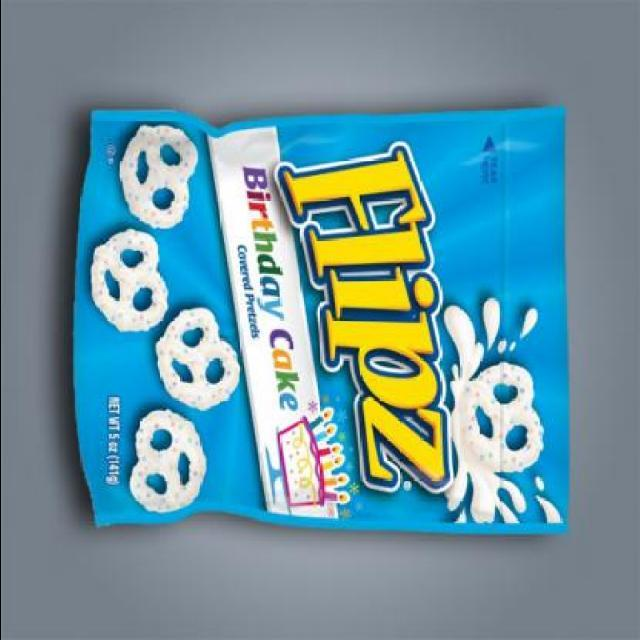Salatini: (61, 94, 574, 540)
